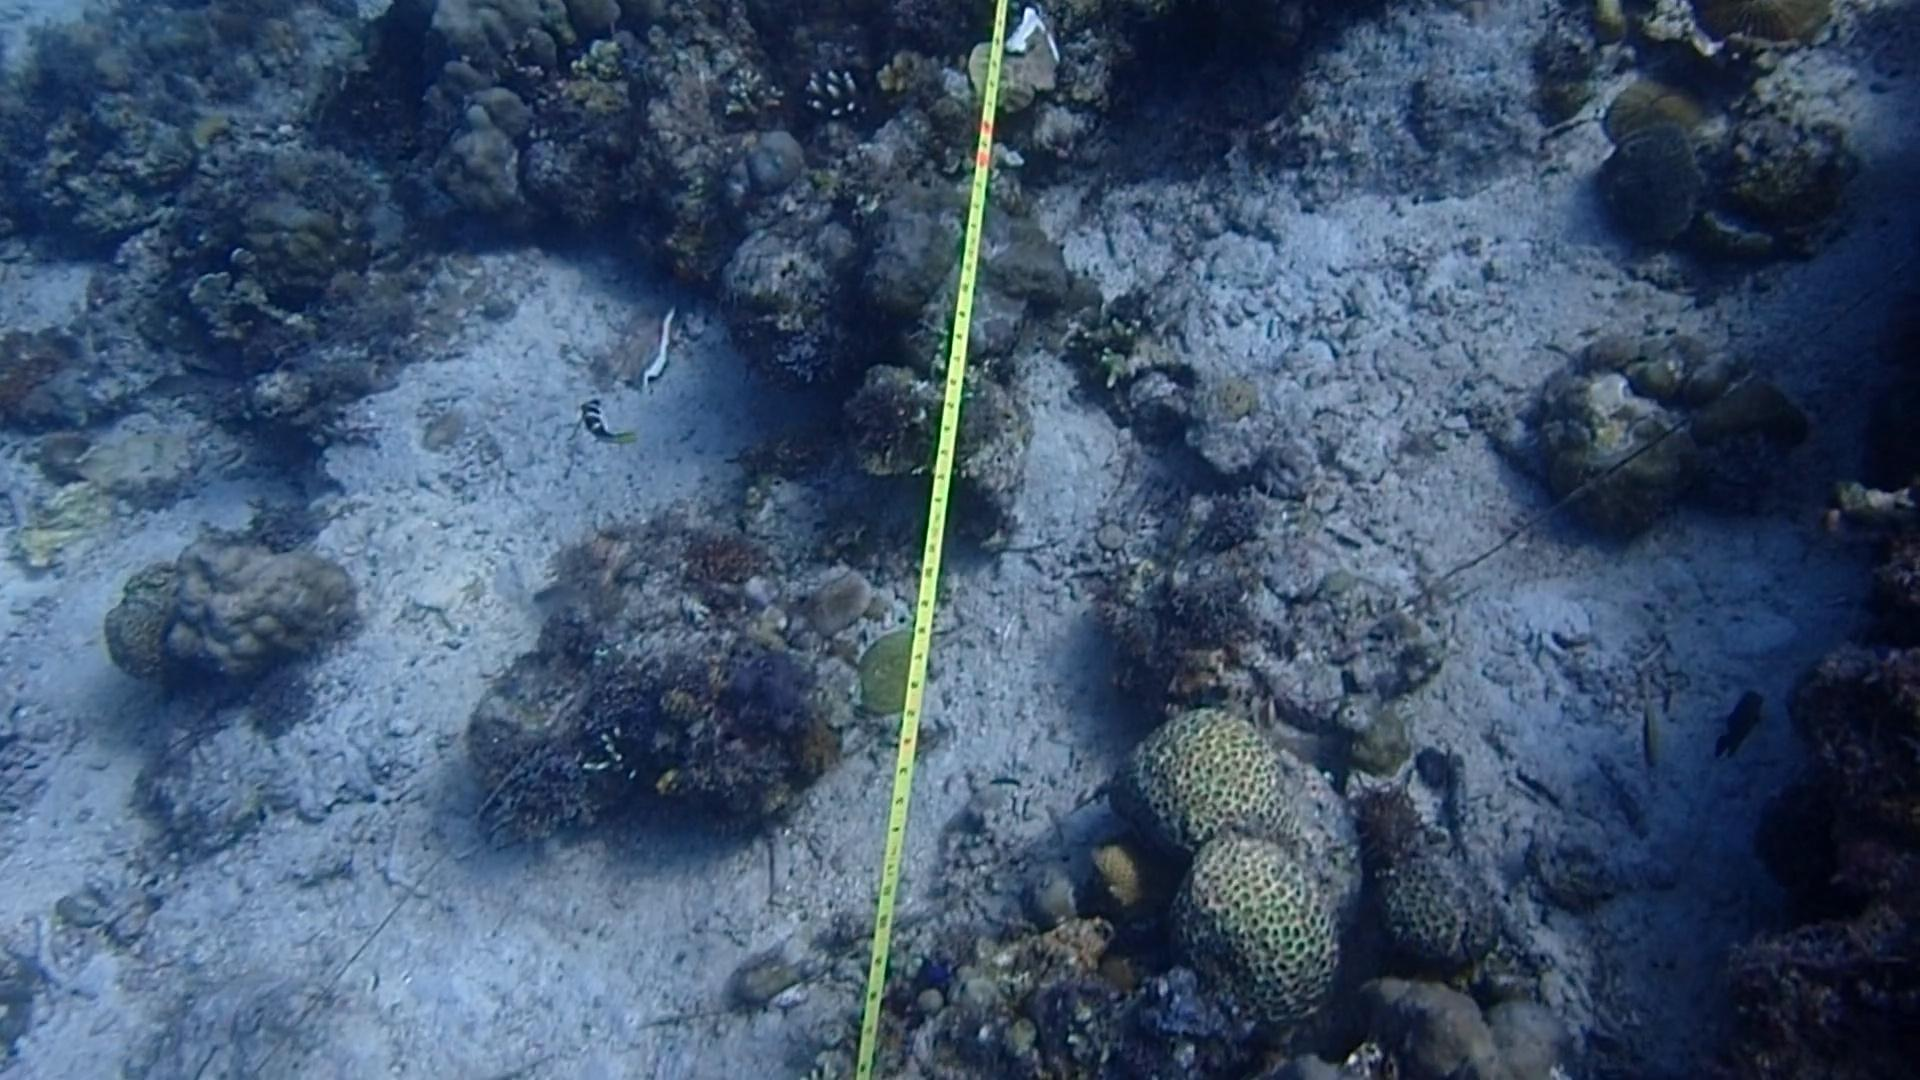Striped Fish: (568, 381, 645, 459)
